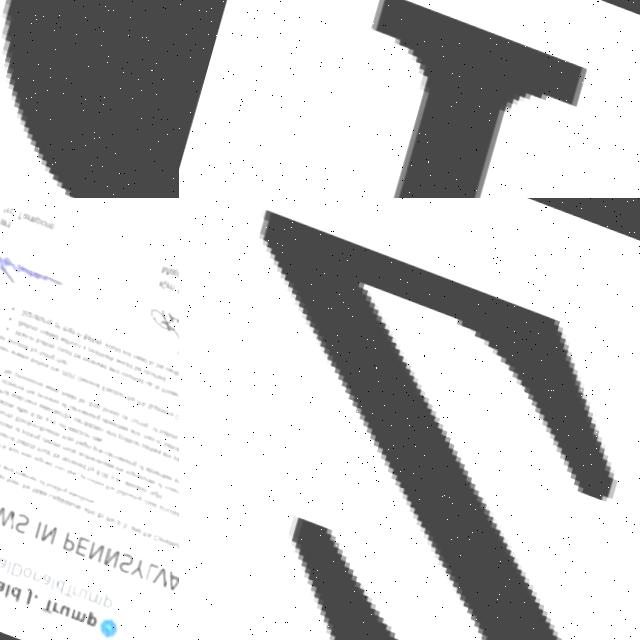0: (0, 0, 179, 198), (99, 464, 106, 474), (69, 367, 76, 377), (104, 466, 109, 475), (38, 411, 44, 418), (35, 409, 39, 417), (64, 366, 68, 374)
1: (0, 440, 2, 447)
2: (65, 366, 72, 376), (59, 364, 64, 374)
8: (93, 463, 100, 473), (29, 405, 34, 415)
9: (1, 440, 6, 449)
R: (229, 0, 640, 198)
Z: (179, 198, 640, 640)
